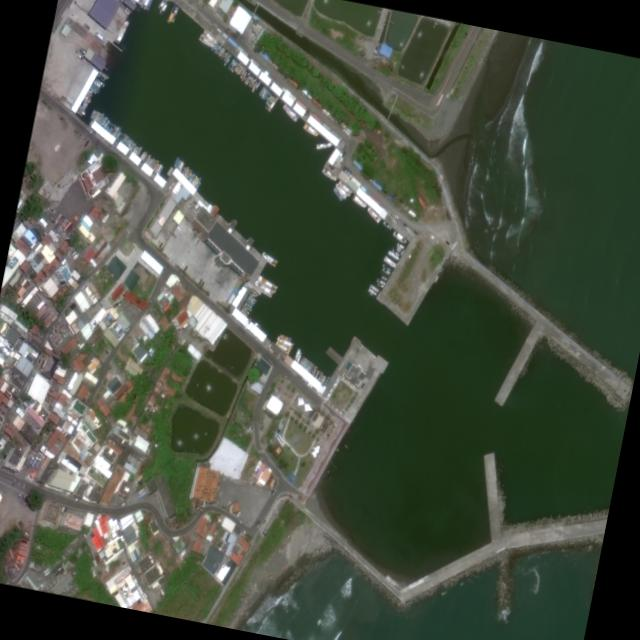ship: (256, 274, 277, 292), (114, 19, 129, 44), (253, 279, 272, 298), (282, 102, 299, 122), (260, 250, 277, 267), (321, 166, 336, 182), (302, 122, 318, 137), (201, 29, 217, 44), (274, 339, 290, 353), (366, 206, 380, 222), (198, 34, 214, 48), (276, 335, 293, 348), (351, 194, 366, 208), (337, 180, 351, 195), (334, 181, 346, 198), (266, 94, 278, 111), (392, 230, 406, 244), (165, 3, 175, 22), (93, 30, 106, 44), (382, 255, 396, 268), (331, 186, 343, 201), (169, 4, 179, 22), (264, 94, 274, 108), (159, 0, 169, 14), (387, 249, 399, 260), (315, 141, 331, 149), (381, 219, 391, 230), (99, 69, 110, 79), (94, 75, 104, 86), (279, 332, 291, 341), (96, 71, 105, 82), (293, 347, 300, 360), (240, 304, 249, 314), (92, 78, 101, 88), (249, 76, 257, 87), (250, 80, 258, 91), (260, 87, 268, 98), (243, 72, 251, 83), (368, 284, 379, 292), (245, 74, 253, 85), (217, 46, 225, 57), (310, 363, 317, 375), (318, 374, 325, 386), (227, 57, 234, 69), (231, 60, 238, 72), (381, 266, 390, 275), (367, 287, 376, 296), (407, 209, 416, 218), (239, 307, 247, 317), (381, 263, 391, 271), (78, 105, 86, 115), (213, 42, 221, 52), (185, 167, 193, 177), (88, 84, 96, 94), (91, 82, 99, 92), (145, 0, 153, 10), (323, 375, 330, 386), (258, 84, 265, 95), (240, 69, 247, 80), (376, 278, 385, 286), (243, 303, 252, 311), (391, 247, 399, 256), (395, 241, 404, 249), (157, 0, 165, 9), (219, 50, 227, 59), (263, 89, 270, 99), (149, 157, 156, 167), (155, 163, 162, 173), (193, 176, 200, 186), (114, 126, 121, 136), (216, 44, 223, 54), (229, 59, 236, 69), (234, 62, 241, 72), (238, 65, 245, 75), (295, 351, 301, 362), (240, 67, 246, 78), (177, 159, 183, 170), (250, 288, 258, 296), (248, 294, 256, 302), (245, 298, 253, 306), (191, 177, 199, 185), (91, 111, 99, 119), (94, 112, 102, 120), (100, 116, 108, 124), (222, 51, 230, 59), (247, 295, 254, 304), (259, 86, 266, 95), (265, 94, 272, 103), (141, 0, 148, 9), (84, 92, 91, 101), (102, 119, 109, 128), (111, 124, 118, 133), (190, 174, 197, 183), (223, 56, 230, 65), (307, 362, 313, 372), (304, 359, 310, 369), (300, 356, 306, 366), (248, 76, 254, 86), (255, 79, 261, 89), (244, 70, 250, 80), (142, 150, 148, 160), (144, 153, 150, 163), (152, 159, 158, 169), (127, 138, 133, 148), (237, 64, 243, 74), (179, 161, 185, 171), (172, 156, 177, 168), (244, 300, 251, 308), (167, 167, 174, 175), (82, 97, 89, 105), (97, 114, 104, 122), (224, 53, 231, 61), (302, 358, 308, 367), (298, 355, 304, 364), (265, 91, 271, 100), (136, 145, 142, 154), (140, 149, 146, 158), (147, 155, 153, 164), (189, 172, 195, 181), (157, 165, 163, 174), (125, 136, 131, 145), (80, 101, 86, 110), (106, 120, 112, 129), (154, 162, 159, 172), (376, 281, 383, 288), (109, 123, 116, 130), (248, 291, 256, 297), (305, 362, 311, 370), (129, 141, 135, 149), (166, 165, 172, 173), (123, 134, 129, 142), (89, 109, 95, 117), (195, 181, 201, 189), (88, 87, 93, 96), (317, 372, 322, 381), (175, 159, 180, 168), (379, 275, 386, 281), (394, 247, 401, 253), (75, 109, 82, 115), (119, 131, 125, 138), (314, 369, 319, 377), (187, 171, 192, 179), (121, 133, 127, 139), (183, 166, 187, 175), (133, 144, 138, 150), (181, 166, 185, 173), (396, 245, 401, 250)
